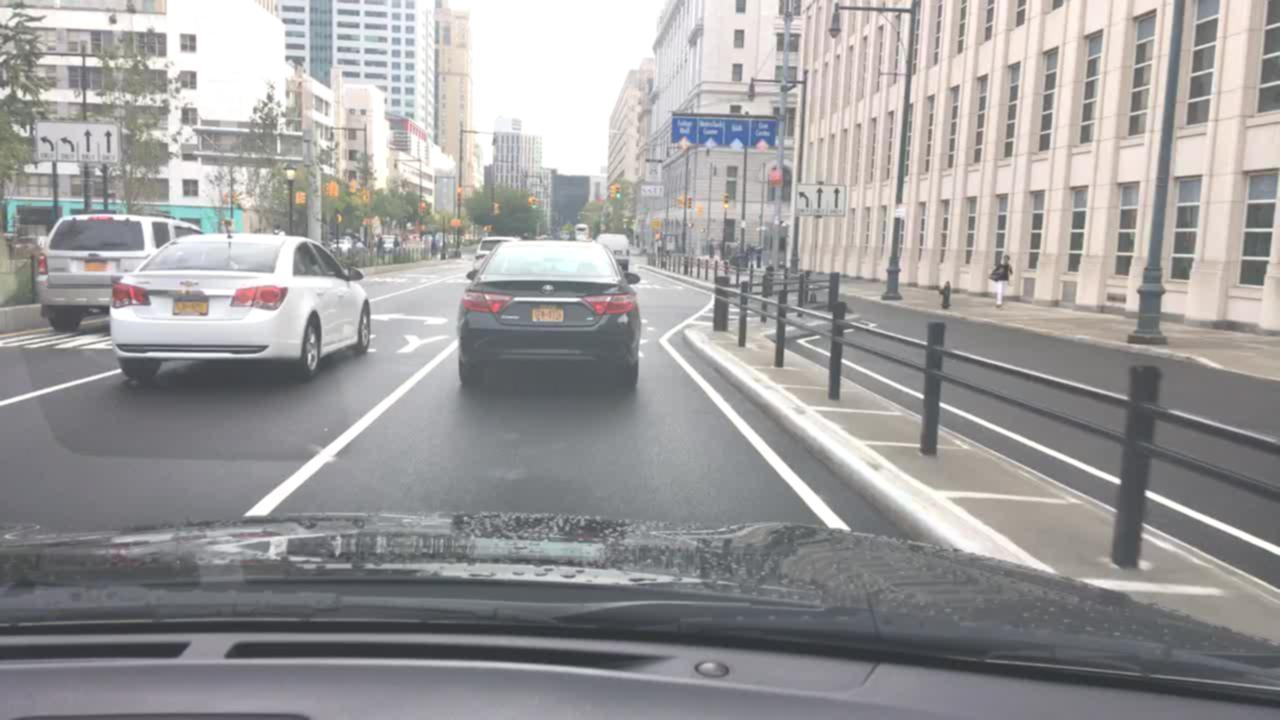Toyota: (536, 279, 559, 296)
chevrolet: (168, 274, 213, 290)
